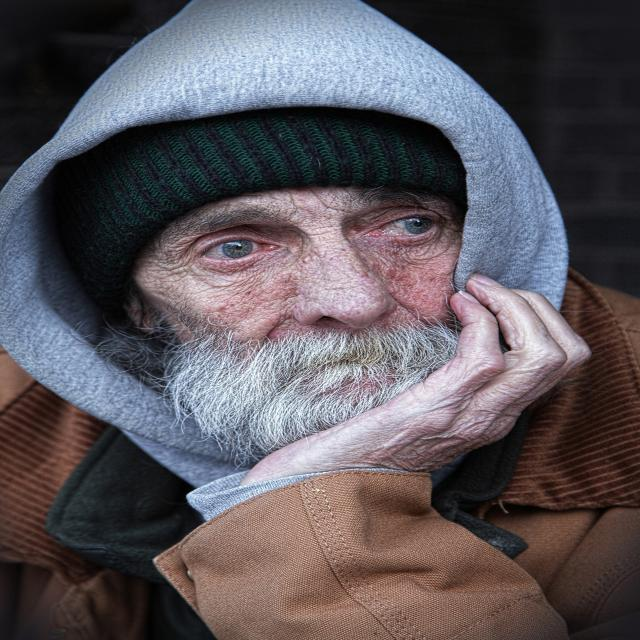earlobe: (127, 300, 163, 335)
eye: (201, 238, 271, 261), (374, 213, 438, 238)
nose: (308, 310, 412, 357)
